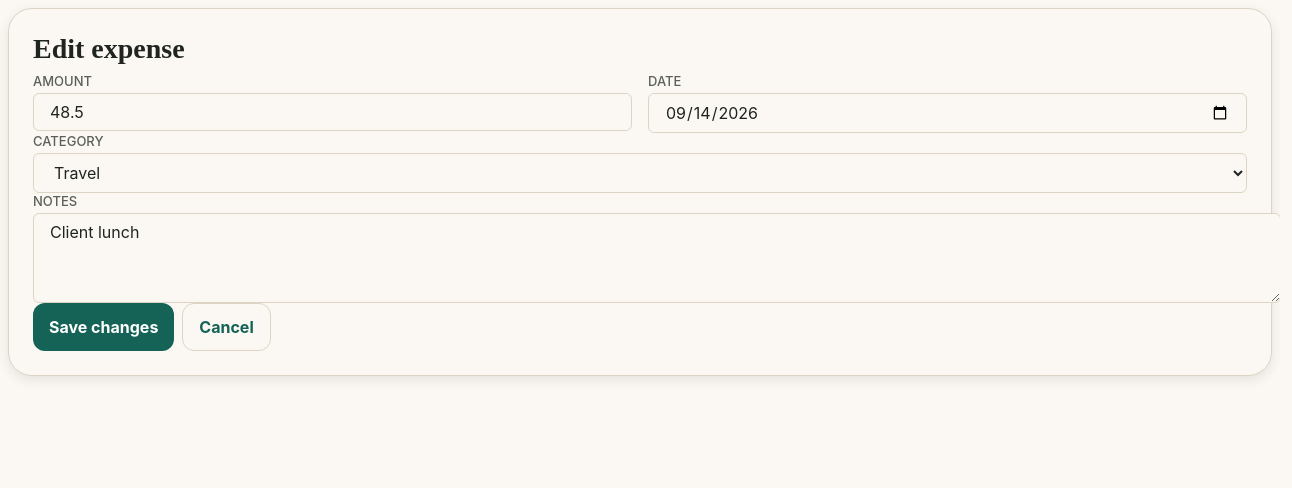
Test case: EditExpenseForm › shows an authorization error when the save is rejected (AC6)
Click the button "Save changes" at (104, 327), box [33, 303, 174, 351]
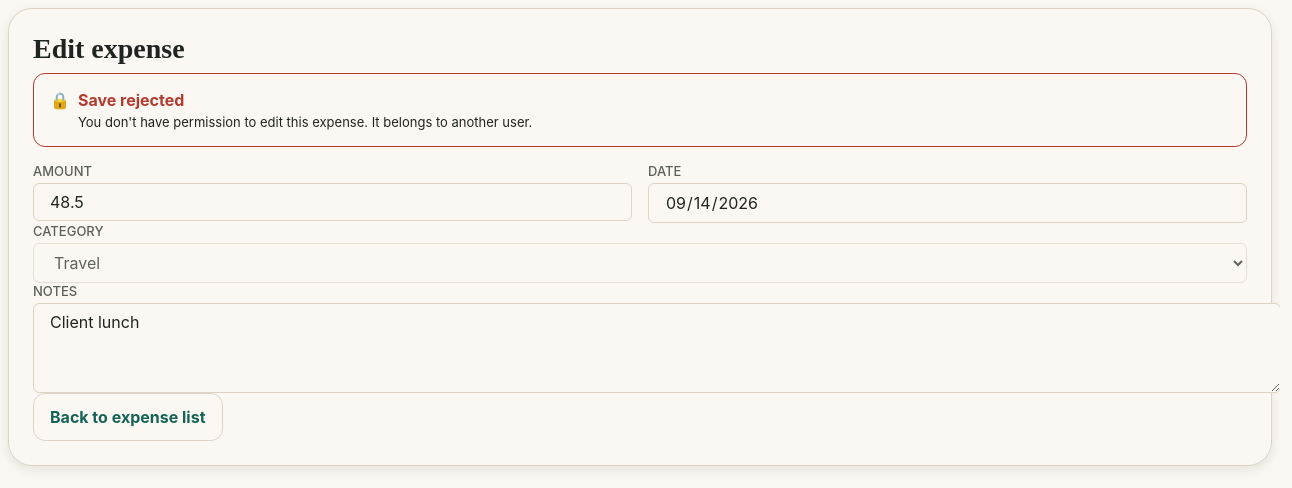
Expected: the text "You don't have permission to edit this expense. It belongs to another user." is shown, [78, 114, 532, 130]
